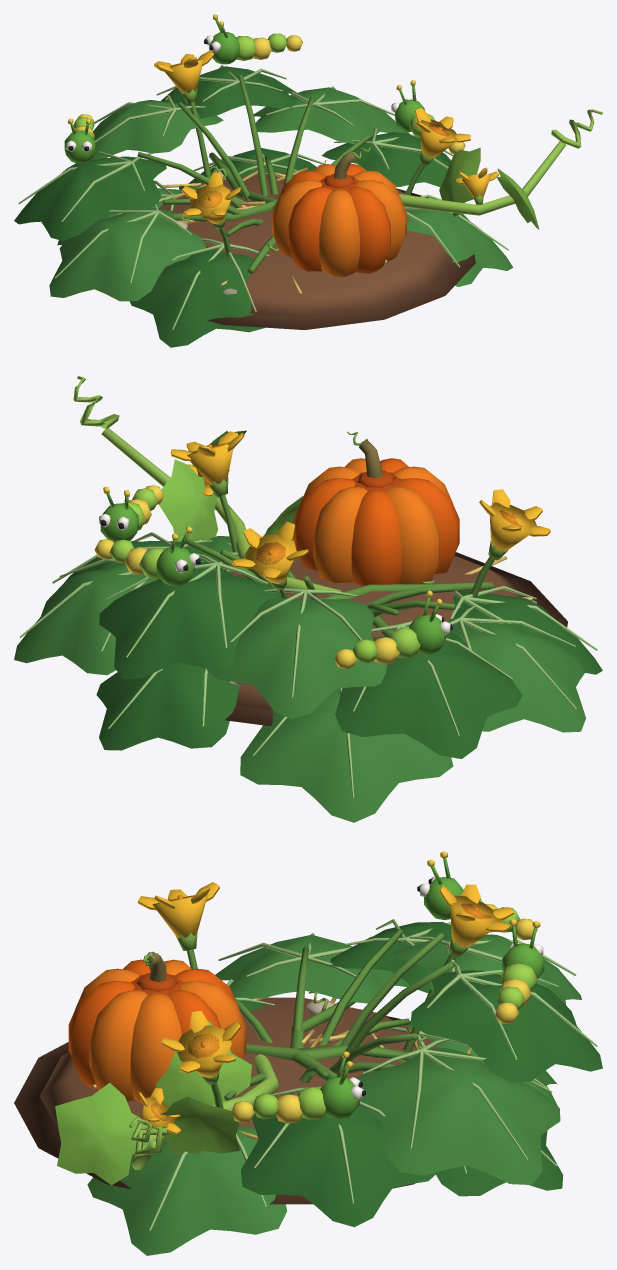
The model's file is pumpkin.glb.
3 views of the same model, one above another, from view 1: azimuth 30°, elevation 25°; view 2: azimuth 150°, elevation 25°; view 3: azimuth 270°, elevation 25° (orthographic). The views are drawn at different scales.
Visible parts, largest first — view 1: VN_mound_soil, VN_fruit_1, VN_leaf_6_blade, VN_leaf_7_blade, VN_leaf_5_blade, VN_leaf_2_blade, VN_leaf_4_blade, VN_mound_rim, VN_leaf_8_blade, VN_leaf_3_blade, VN_leaf_1_blade, VN_shoot (+18 smaller); view 2: VN_fruit_1, VN_leaf_10_blade, VN_leaf_5_blade, VN_leaf_3_blade, VN_leaf_4_blade, VN_leaf_9_blade, VN_leaf_6_blade, VN_leaf_2_blade, VN_pests, VN_mound_soil, VN_shoot, VN_leaf_7_blade (+13 smaller); view 3: VN_leaf_2_blade, VN_fruit_1, VN_leaf_1_blade, VN_leaf_8_blade, VN_shoot, VN_leaf_3_blade, VN_mound_soil, VN_leaf_6_blade, VN_pests, VN_mound_rim, VN_leaf_4_blade, VN_flowers (+20 smaller).
Boxes of the visible parts, x1,y1,x2,y2 form: VN_mound_soil: (159,173,452,317); VN_fruit_1: (272,164,406,276); VN_leaf_6_blade: (49,208,205,301); VN_leaf_7_blade: (130,246,264,347); VN_leaf_5_blade: (14,156,166,241); VN_leaf_2_blade: (253,87,410,144); VN_leaf_4_blade: (90,100,223,159); VN_mound_rim: (196,182,475,329); VN_leaf_8_blade: (406,209,513,286); VN_leaf_3_blade: (160,66,297,118); VN_leaf_1_blade: (321,132,450,187); VN_shoot: (361,147,539,229); VN_fruit_1: (293,458,459,586); VN_leaf_10_blade: (240,688,453,822); VN_leaf_5_blade: (335,632,522,758); VN_leaf_3_blade: (99,562,280,679); VN_leaf_4_blade: (207,597,387,719); VN_leaf_9_blade: (96,662,239,750); VN_leaf_6_blade: (448,615,585,732); VN_leaf_2_blade: (14,563,158,675); VN_pests: (94,485,420,668); VN_mound_soil: (230,549,525,710); VN_shoot: (158,430,303,541); VN_leaf_7_blade: (453,591,602,674); VN_leaf_2_blade: (356,1048,560,1184); VN_fruit_1: (68,959,246,1103); VN_leaf_1_blade: (241,1105,437,1227); VN_leaf_8_blade: (87,1126,286,1255); VN_shoot: (55,1021,252,1185); VN_leaf_3_blade: (410,970,602,1083); VN_mound_soil: (39,997,437,1131); VN_leaf_6_blade: (215,934,410,1003); VN_pests: (231,893,537,1123); VN_mound_rim: (14,1016,414,1204); VN_leaf_4_blade: (393,934,581,1004); VN_flowers: (137,882,513,1073).
Size of the model in its own units: 0.9934 by 0.3833 by 0.8012.
